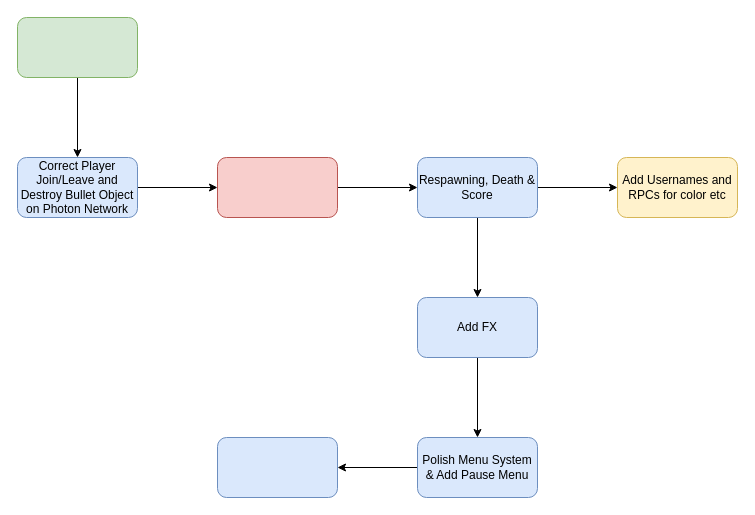
Image size: 755x515. Some labels were removed from this diagram. Here are the shapes that lost their labels. From the top down, the centre of each, then its label:
point (77, 47): Add Environment & Fences
point (277, 187): Add Shooting Mechanics & Collision Force
point (277, 467): Recreate Room Listing & Add Player Listing
